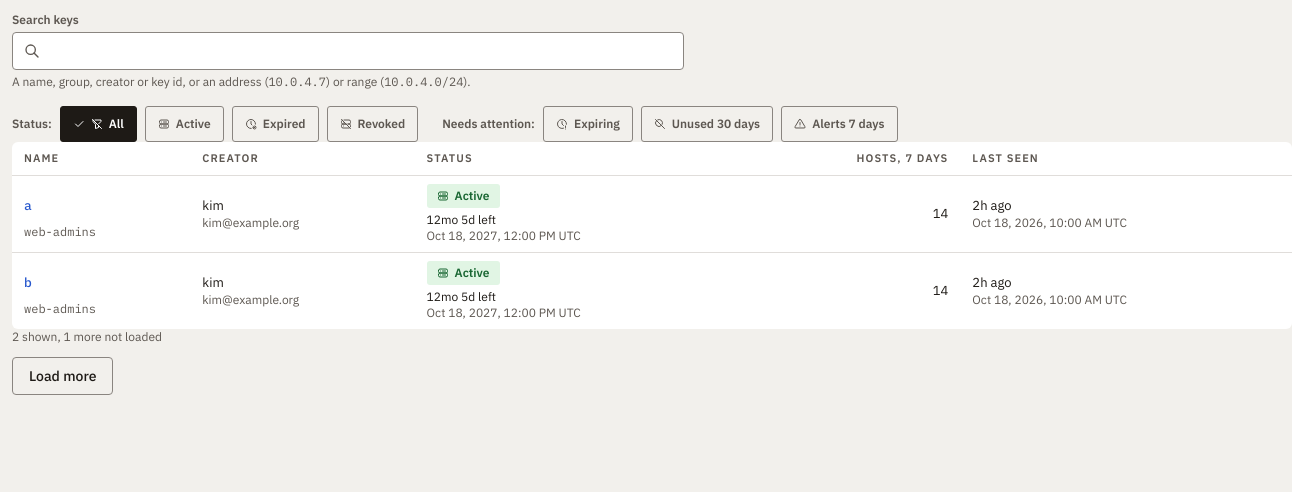
Test: NSS admin key list states › should keep the loaded rows when Load more fails
Click the button with test id "nss-admin-keys-load-more".
click(63, 376)  # box [12,356,114,394]
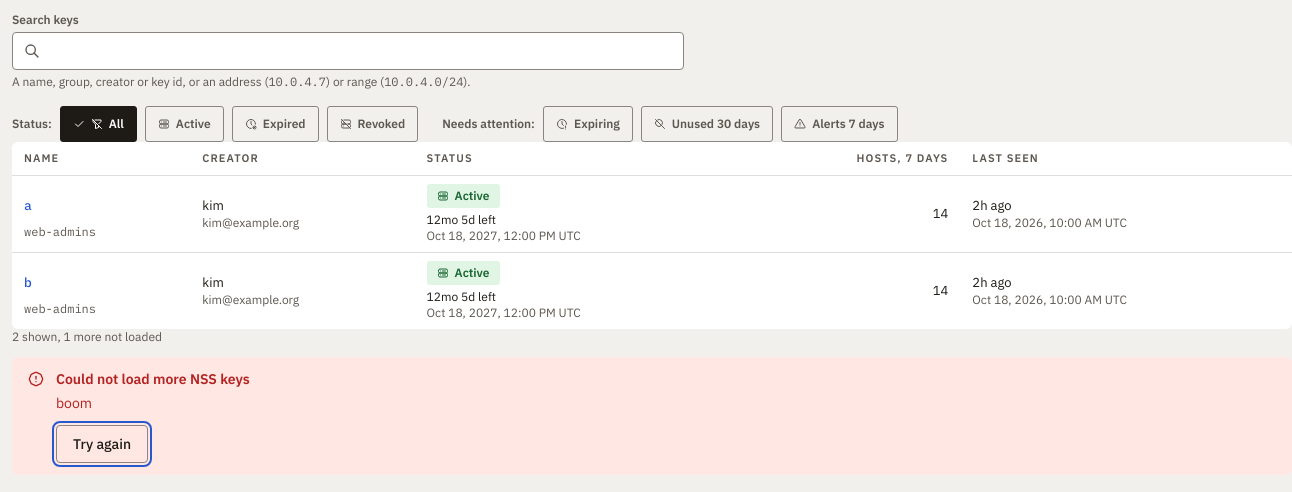
Expected: the number of rows with test id "nss-admin-keys-row" is 2, [12,175,1291,252]; [12,252,1291,328]
Expected: the message "Could not load more NSS keys boom Try again" is shown, [12,356,1291,474]
